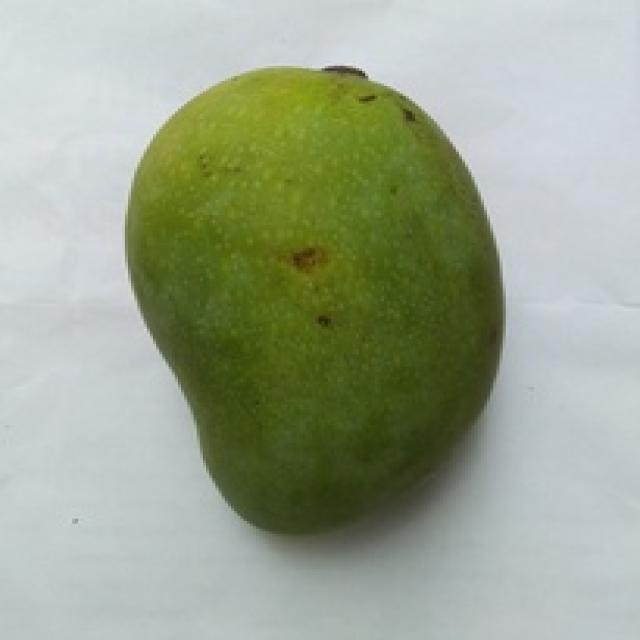Mango: (125, 68, 500, 531)
